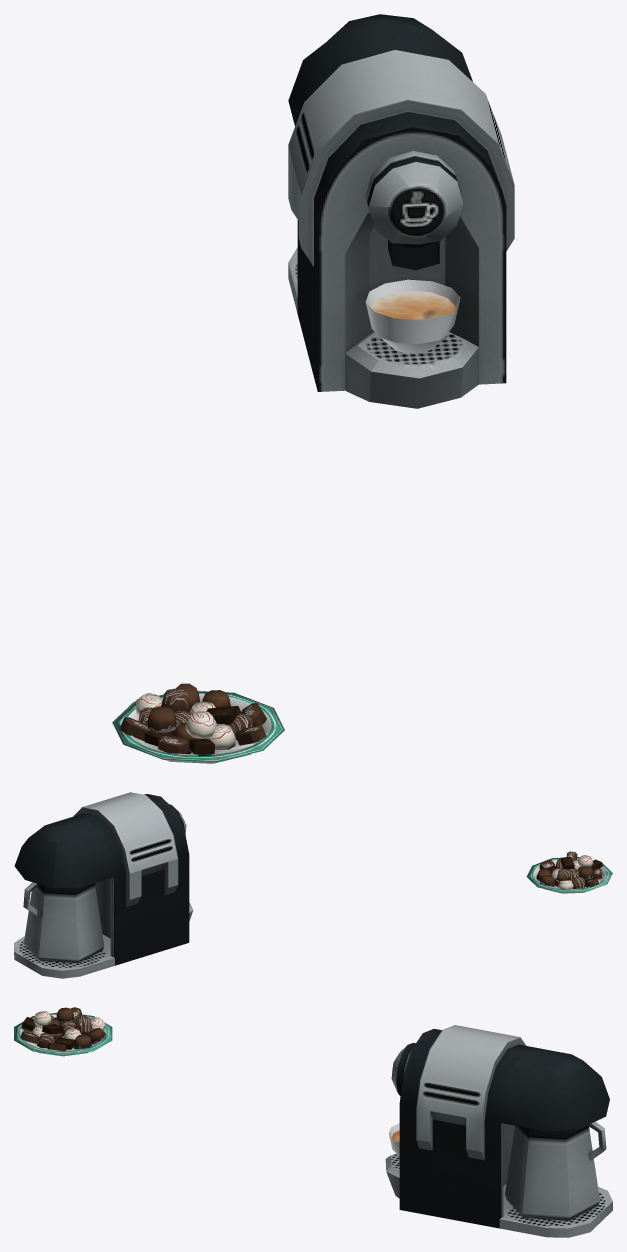
Rendered from Props_2_Kiosk_COMBO.fbx.
The picture shows the model from 3 angles, top to bottom: view 1: azimuth 30°, elevation 25°; view 2: azimuth 150°, elevation 25°; view 3: azimuth 270°, elevation 25°; orthographic projection. The views are drawn at different scales.
Parts seen in each view (by area): view 1: conn_10_0009_Chocolates; view 2: conn_10_0009_Chocolates; view 3: conn_10_0009_Chocolates.
Part boxes in pixels (bbox=[...]): conn_10_0009_Chocolates: bbox=[112, 14, 514, 763]; conn_10_0009_Chocolates: bbox=[14, 792, 612, 978]; conn_10_0009_Chocolates: bbox=[14, 1007, 612, 1237].
Bounding box in the file's own units: 0.9829 × 0.336 × 1.13.
